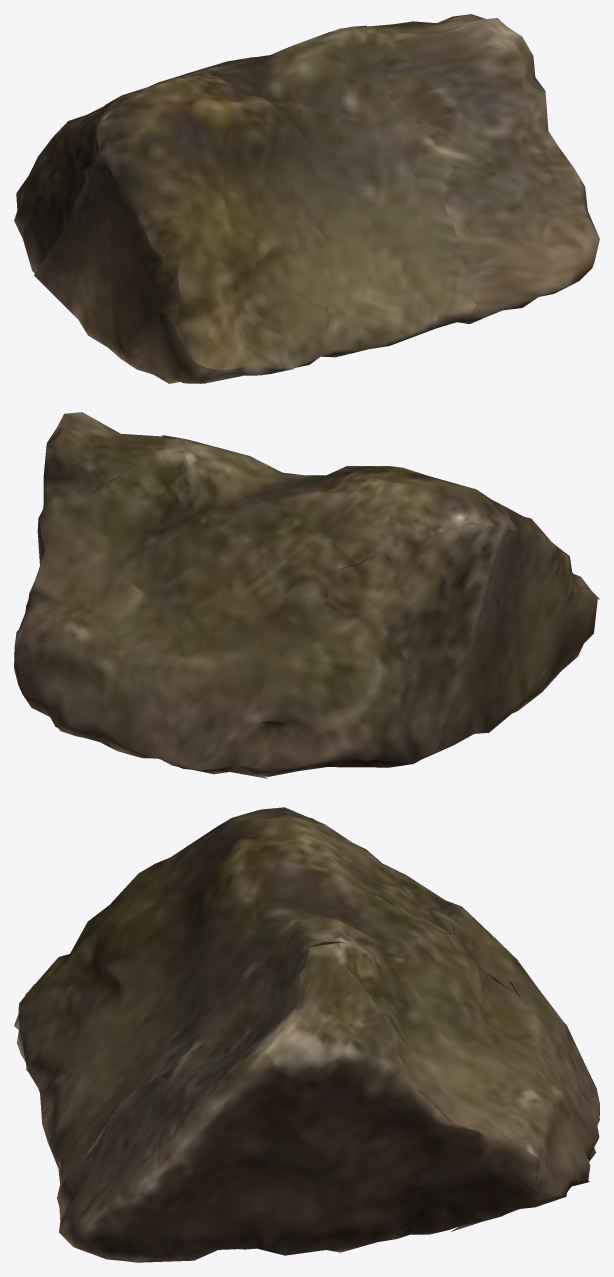
The model's file is rock_mossy_flat.glb.
3 views of the same model, one above another, from view 1: azimuth 30°, elevation 25°; view 2: azimuth 150°, elevation 25°; view 3: azimuth 270°, elevation 25° (orthographic). The views are drawn at different scales.
Parts seen in each view (by area): view 1: rock_moss_set_01_rock03; view 2: rock_moss_set_01_rock03; view 3: rock_moss_set_01_rock03.
Part boxes in pixels (x1,y1,x2,y2): rock_moss_set_01_rock03: [14, 14, 599, 383]; rock_moss_set_01_rock03: [14, 412, 599, 778]; rock_moss_set_01_rock03: [14, 807, 599, 1262].
Size of the model in its own units: 2.11 by 1.1 by 2.08.
Materials: 1 (1 with a texture image).
